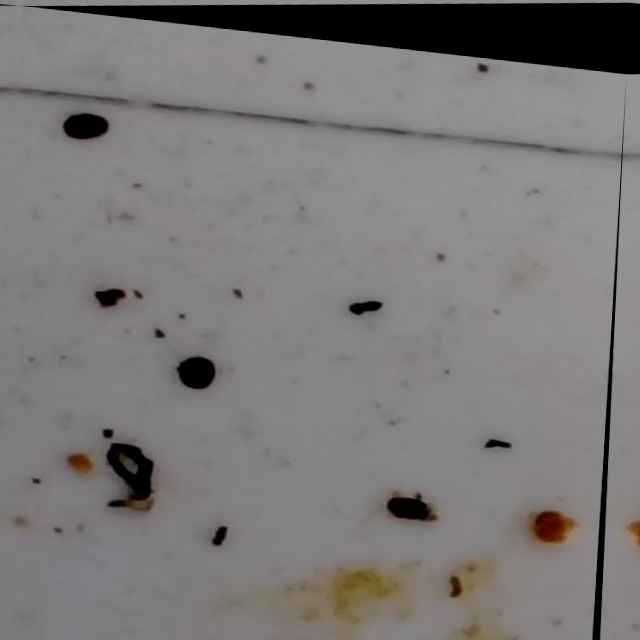varroa: (60, 109, 112, 144), (176, 352, 220, 390), (386, 487, 436, 520)
